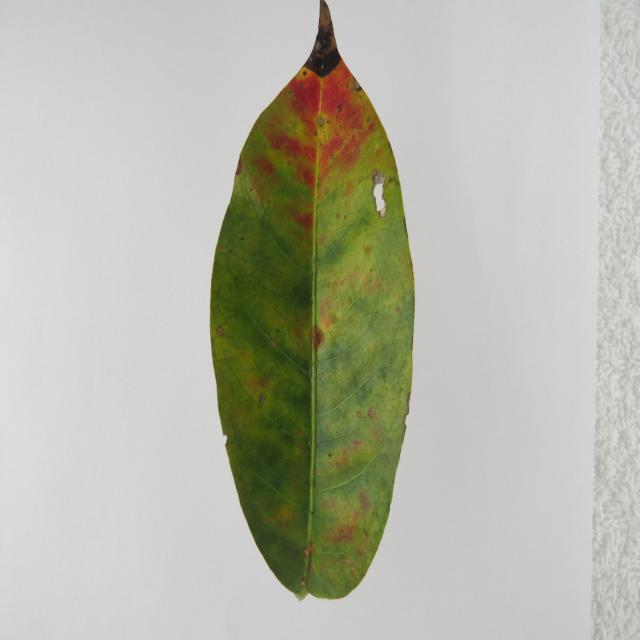DeficienciaNutricional-Fosforo: (210, 2, 414, 598)
